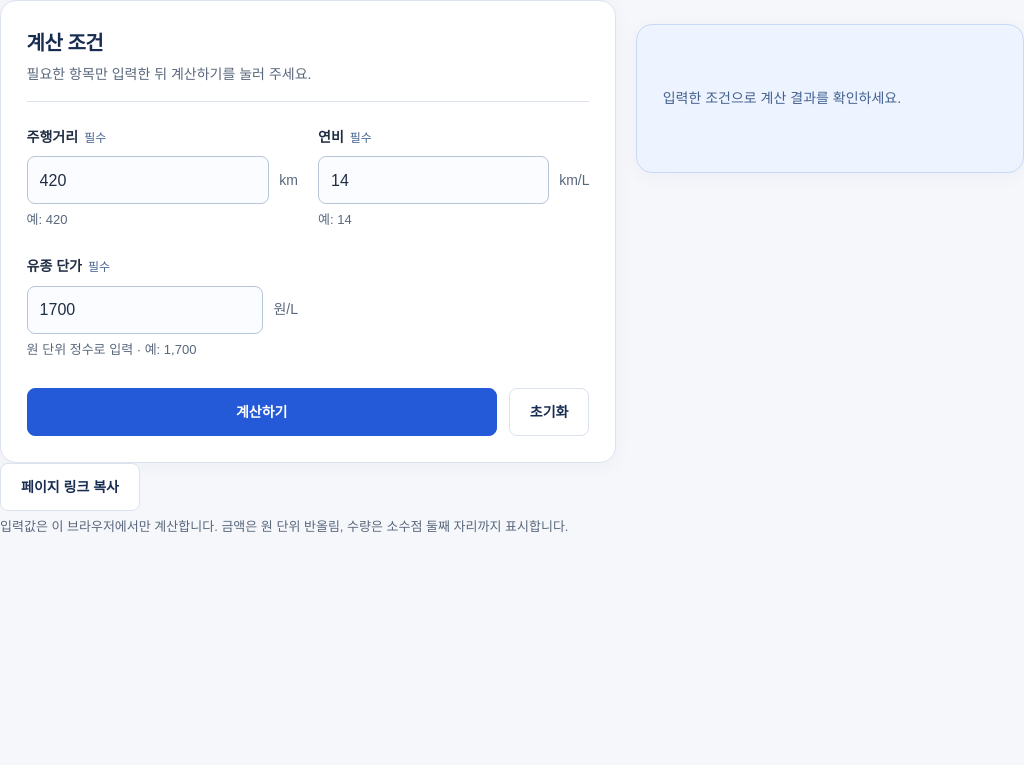
compares recalculated results with their own input snapshot, then resets both
Click the button "계산하기" at (262,412), box [27,388,497,436]
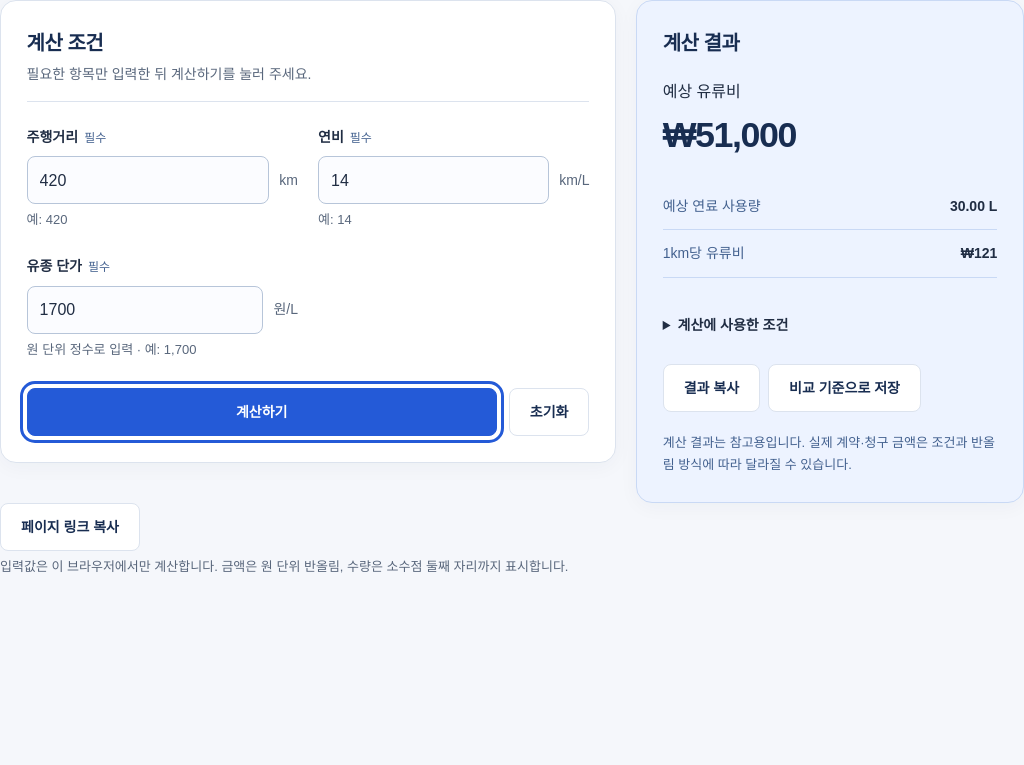
Click the button "비교 기준으로 저장" at (844,388), box [768,364,921,412]
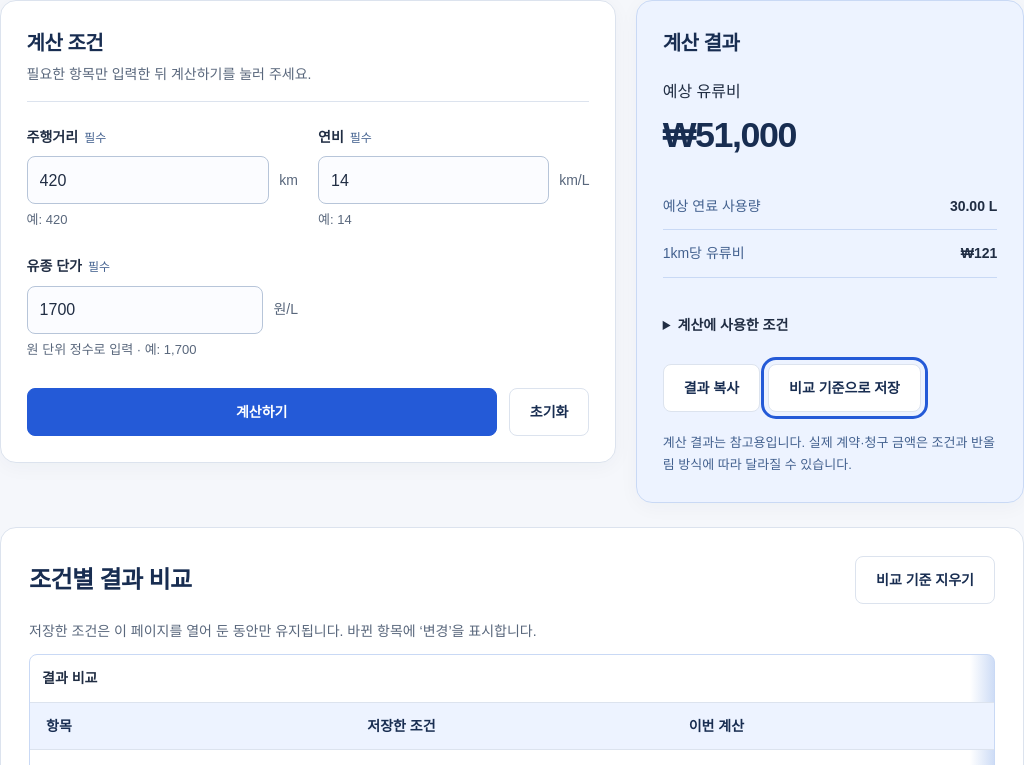
Replace the text in the field labelled "주행거리" with "840" at (148,180), box [27,156,269,204]
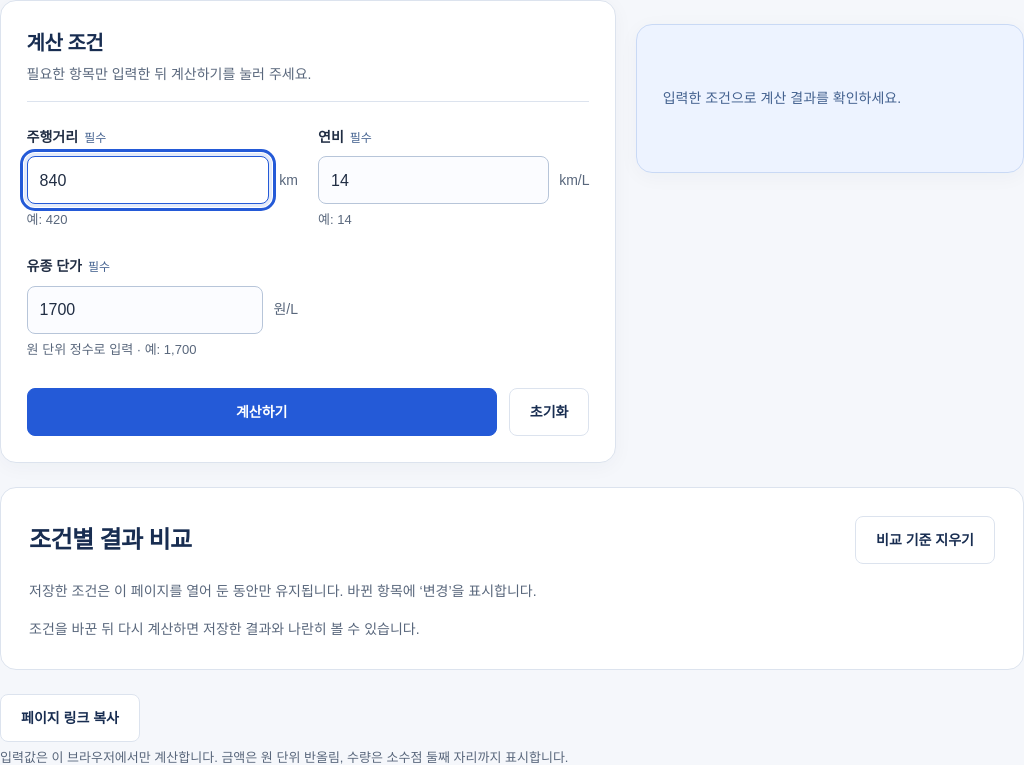
Check: the text "조건을 바꾼 뒤 다시 계산하면 저장한 결과와 나란히 볼 수 있습니다." is shown, box [29,621,420,637]
Click the button "계산하기" at (262,412), box [27,388,497,436]
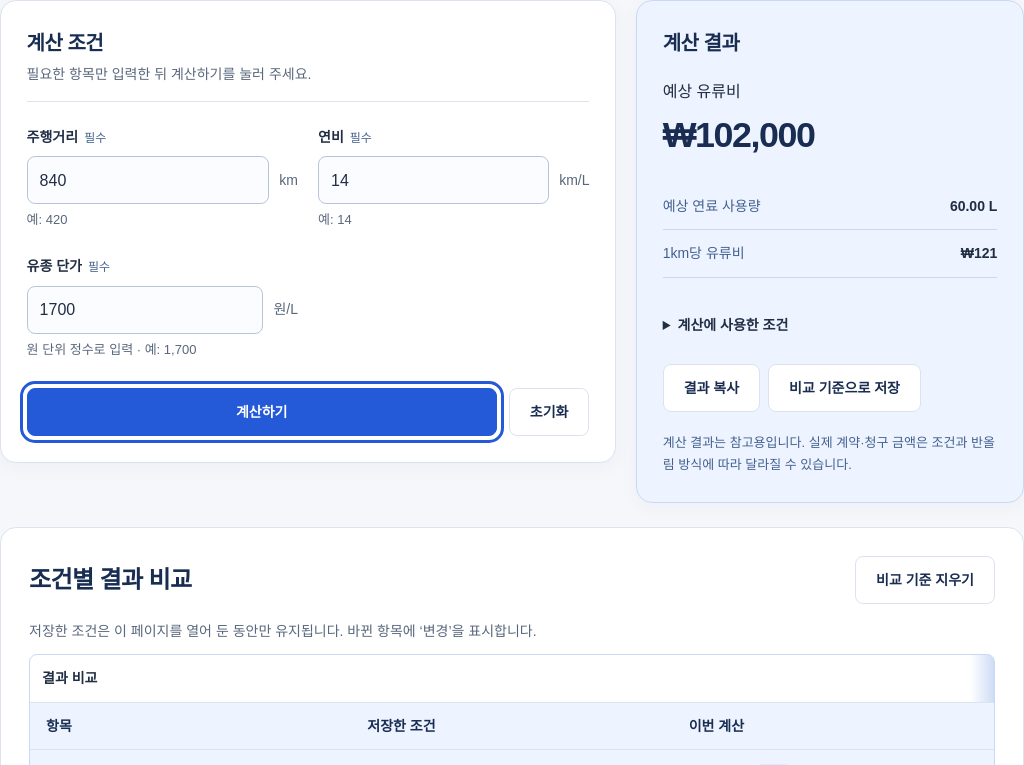
Click the button "초기화" at (549,412), box [509,388,589,436]
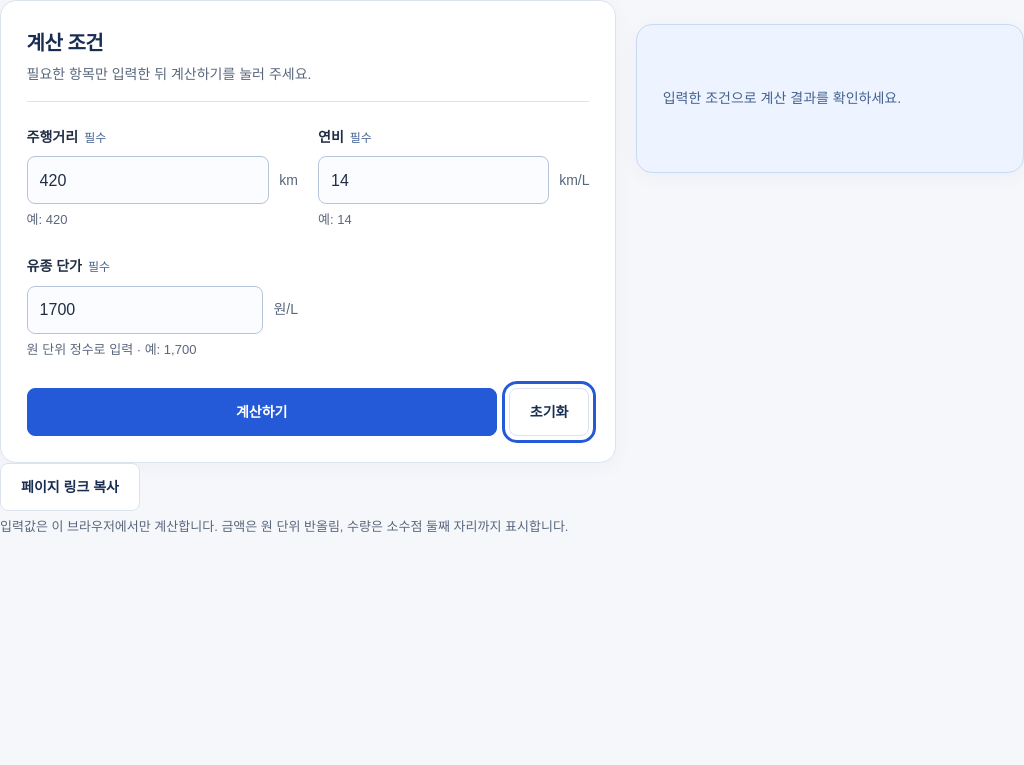
Check: the heading "조건별 결과 비교" is gone
